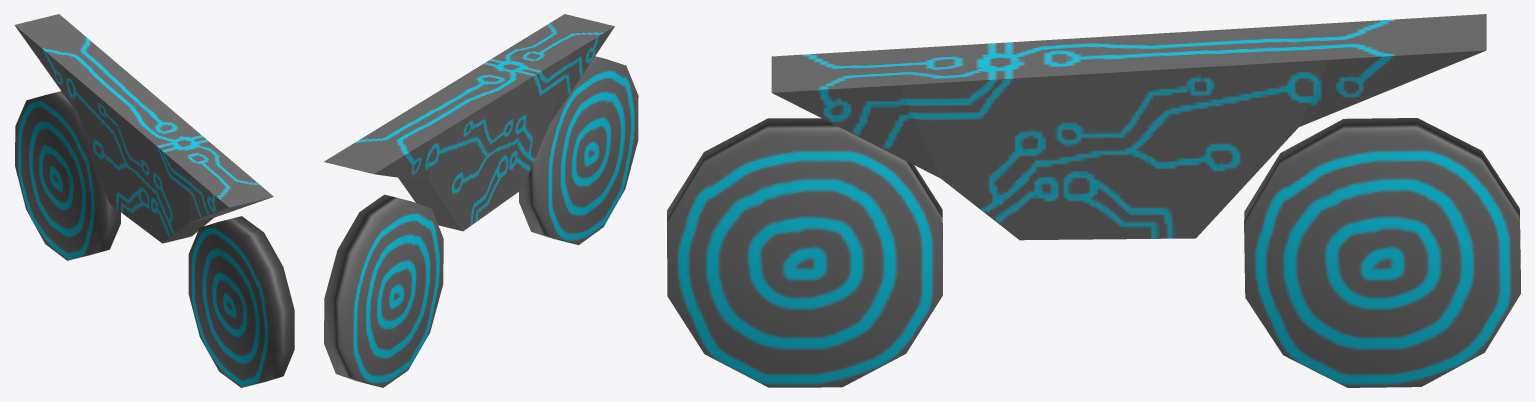
File: bike.gltf
3 views of the same model, side by side, from view 1: azimuth 30°, elevation 25°; view 2: azimuth 150°, elevation 25°; view 3: azimuth 270°, elevation 25° (orthographic). The views are drawn at different scales.
Parts seen in each view (by area): view 1: Cube; view 2: Cube; view 3: Cube.
Part boxes in pixels (left/top/right/bottom): Cube: left=14, top=14, right=294, bottom=387; Cube: left=324, top=14, right=638, bottom=387; Cube: left=667, top=14, right=1520, bottom=387.
Bounding box in the file's own units: 0.1944 × 0.8614 × 1.93.
1 material, 1 textured.
